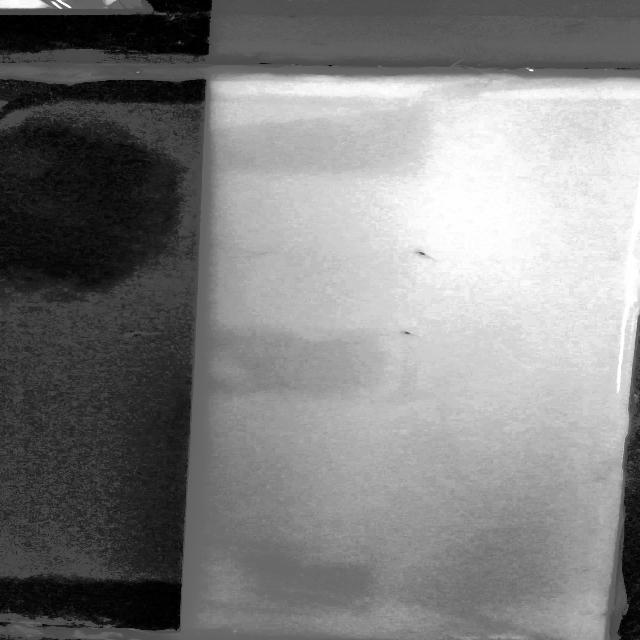shrimp: (408, 248, 446, 263), (400, 326, 429, 337)
